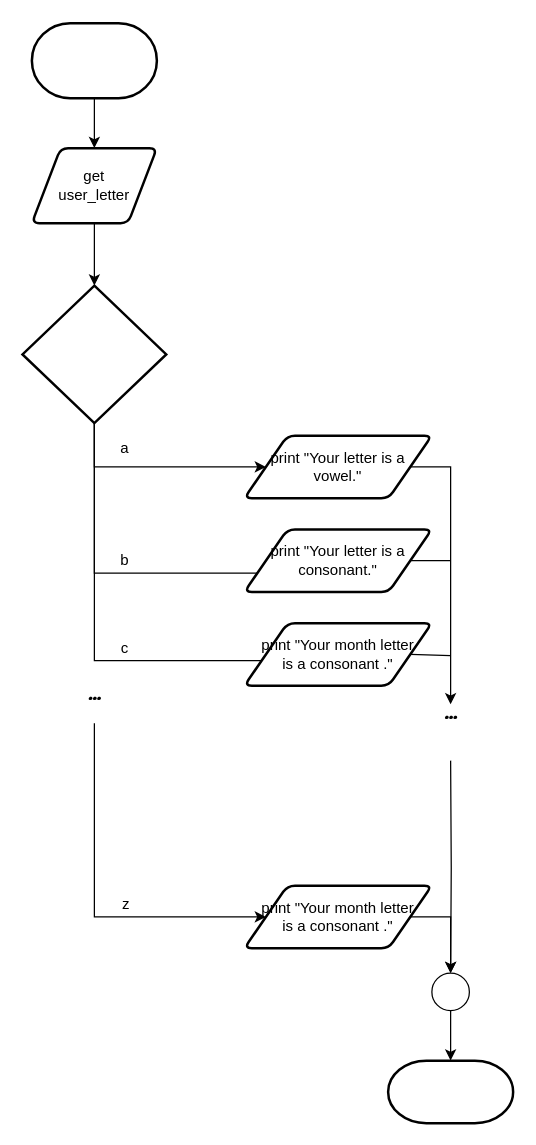
The diagram is 536 pixels wide and 1145 high, and some of its shapes have lost their labels. The shapes that lost their labels are listed below. From the top down, each one's centre as x and y in pixels, then its label:
point 94,60: start
point 94,354: user letter
point 450,1091: stop
